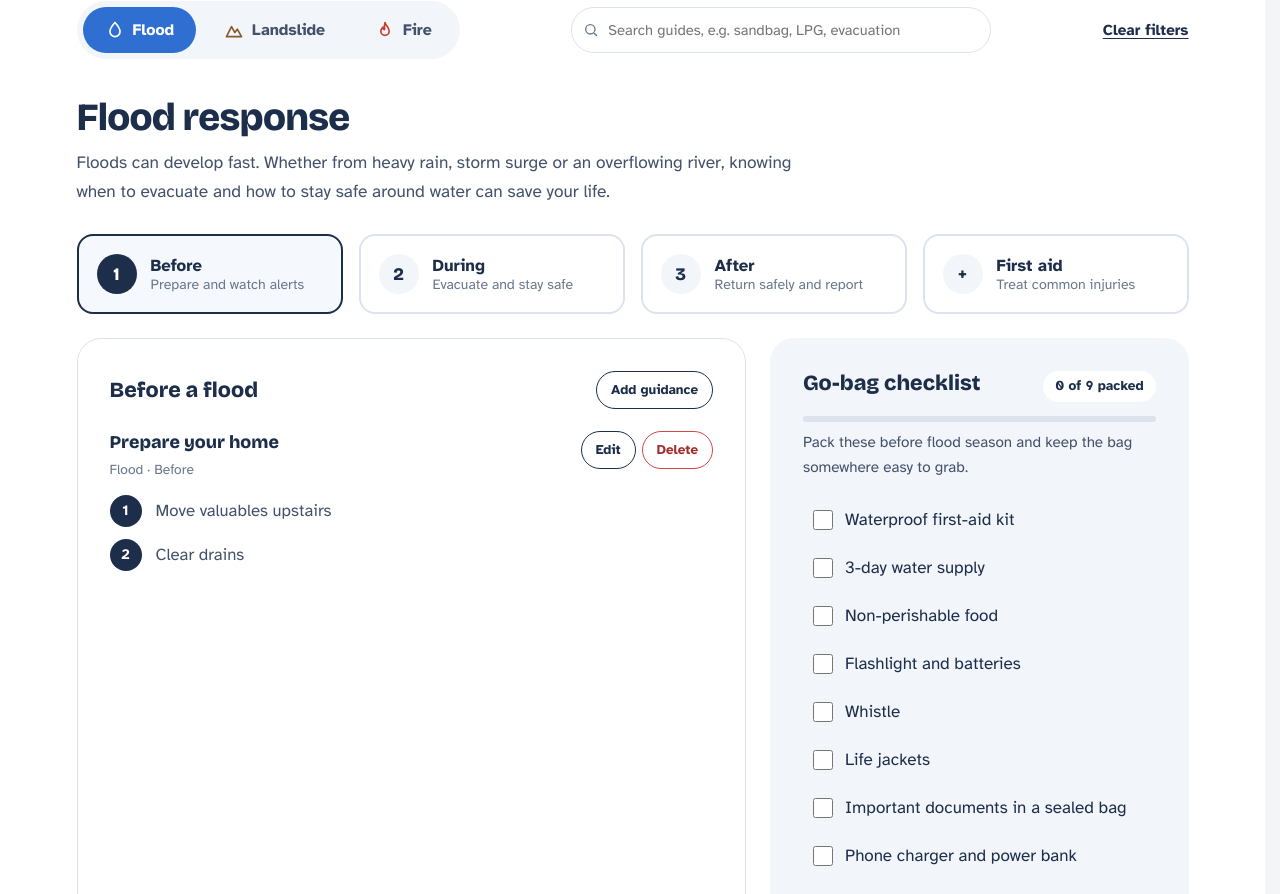
Test case: one form at a time: while editing, Add and the other card buttons step aside
(page scrolled)
Click the button "Edit".
click(608, 450)  # box [581,431,636,470]
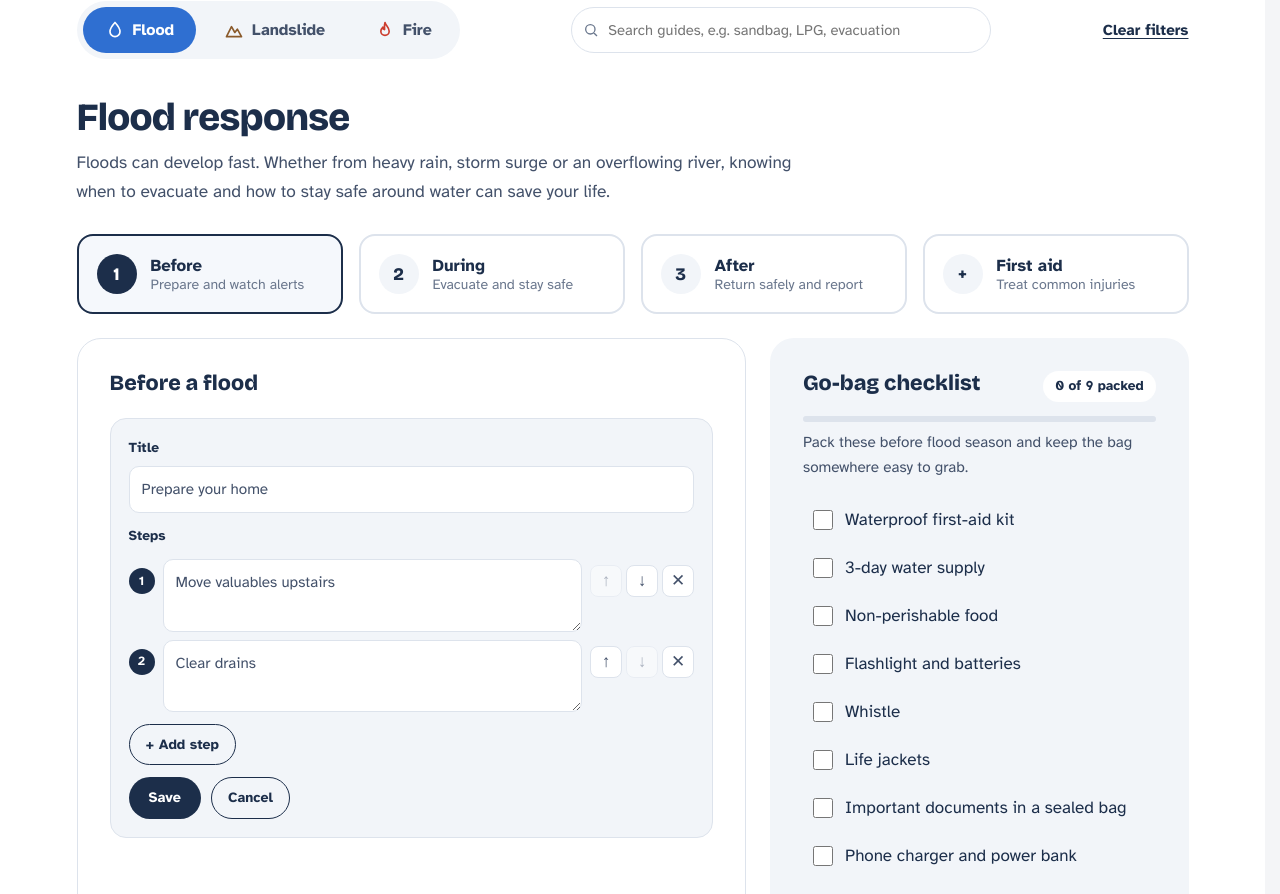
Click the button "Cancel".
click(250, 798)  # box [211,777,290,819]
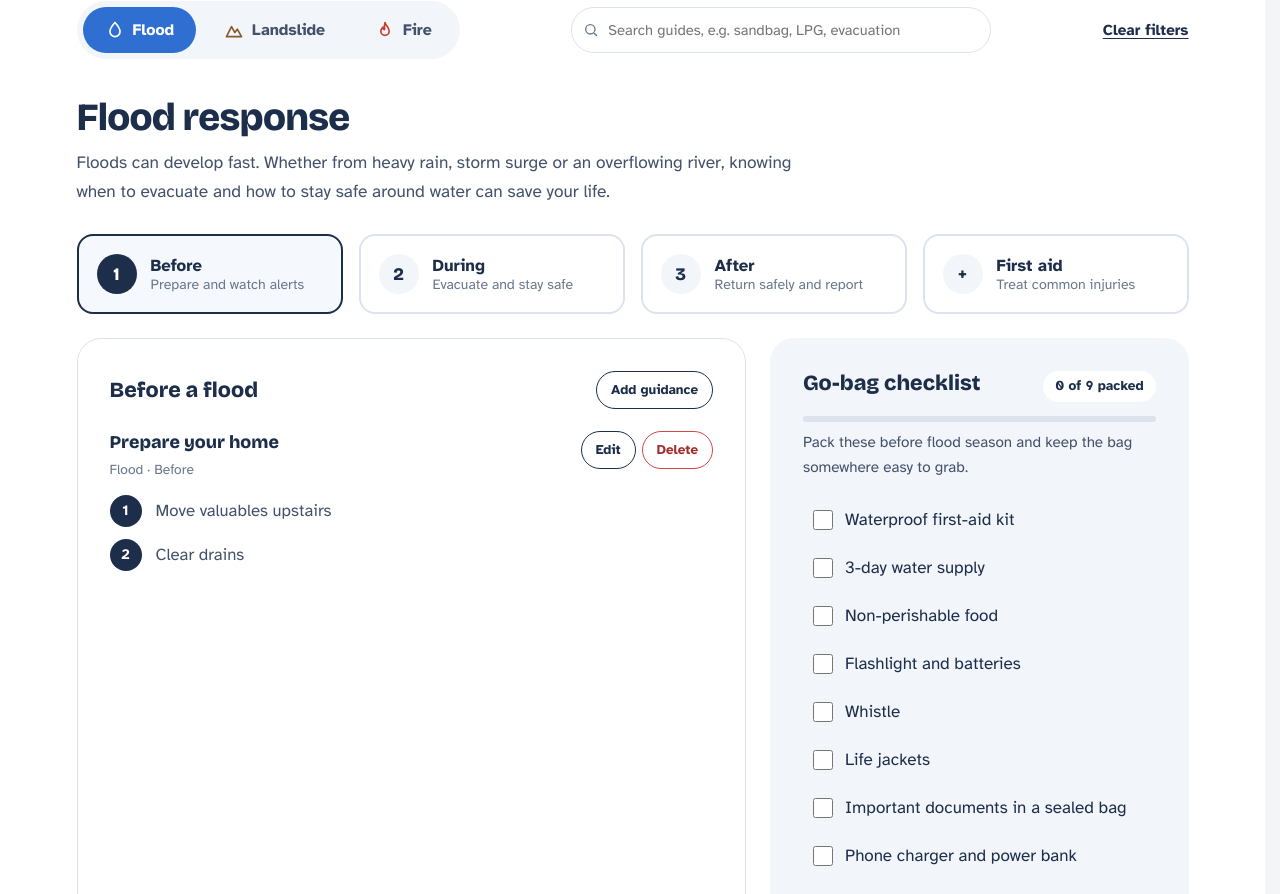
Now the button "Add guidance" is shown, box [596,371,713,409]
